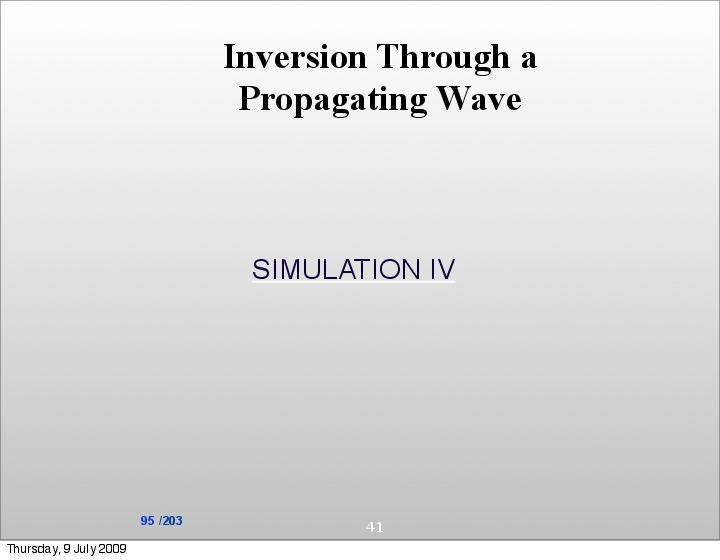subtitle: (241, 235, 473, 303)
title: (209, 27, 589, 146)
